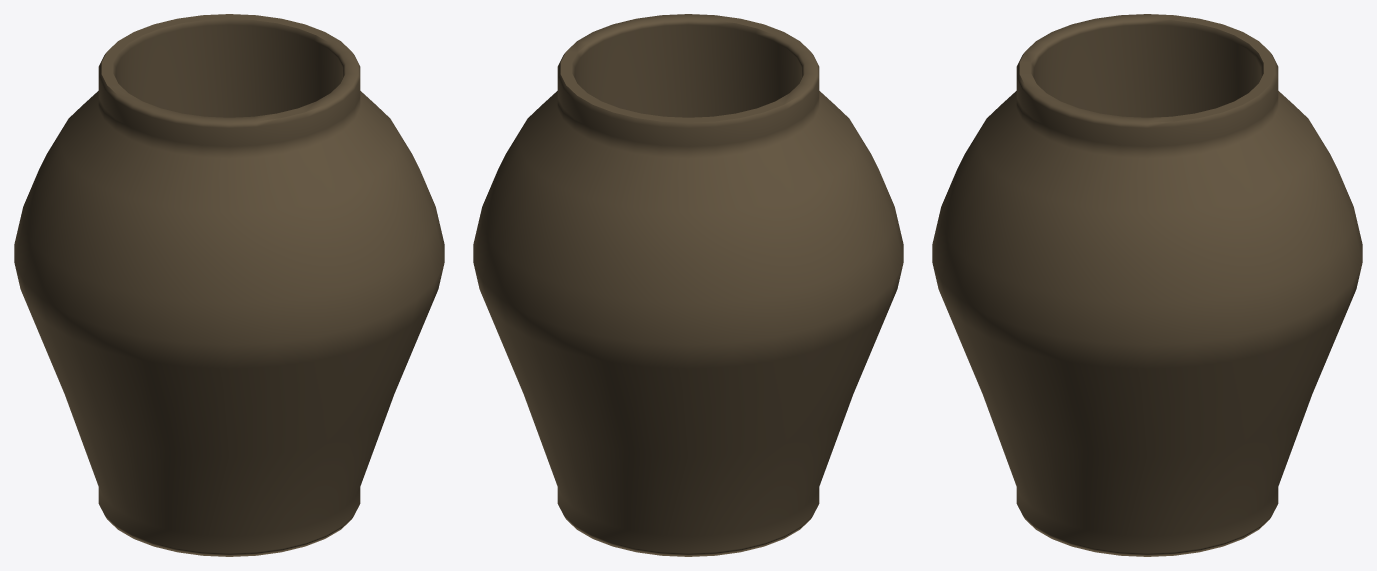
The model's file is obj_not_tubo_its_doki.fbx.
3 views of the same model, side by side, from view 1: azimuth 30°, elevation 25°; view 2: azimuth 150°, elevation 25°; view 3: azimuth 270°, elevation 25° (orthographic).
Visible parts, largest first — view 1: doki; view 2: doki; view 3: doki.
Part boxes in pixels (x1=…): doki: x1=14, y1=14, x2=444, y2=556; doki: x1=473, y1=14, x2=903, y2=556; doki: x1=932, y1=14, x2=1362, y2=556.
Size of the model in its own units: 5.23 by 5.8 by 5.2.
